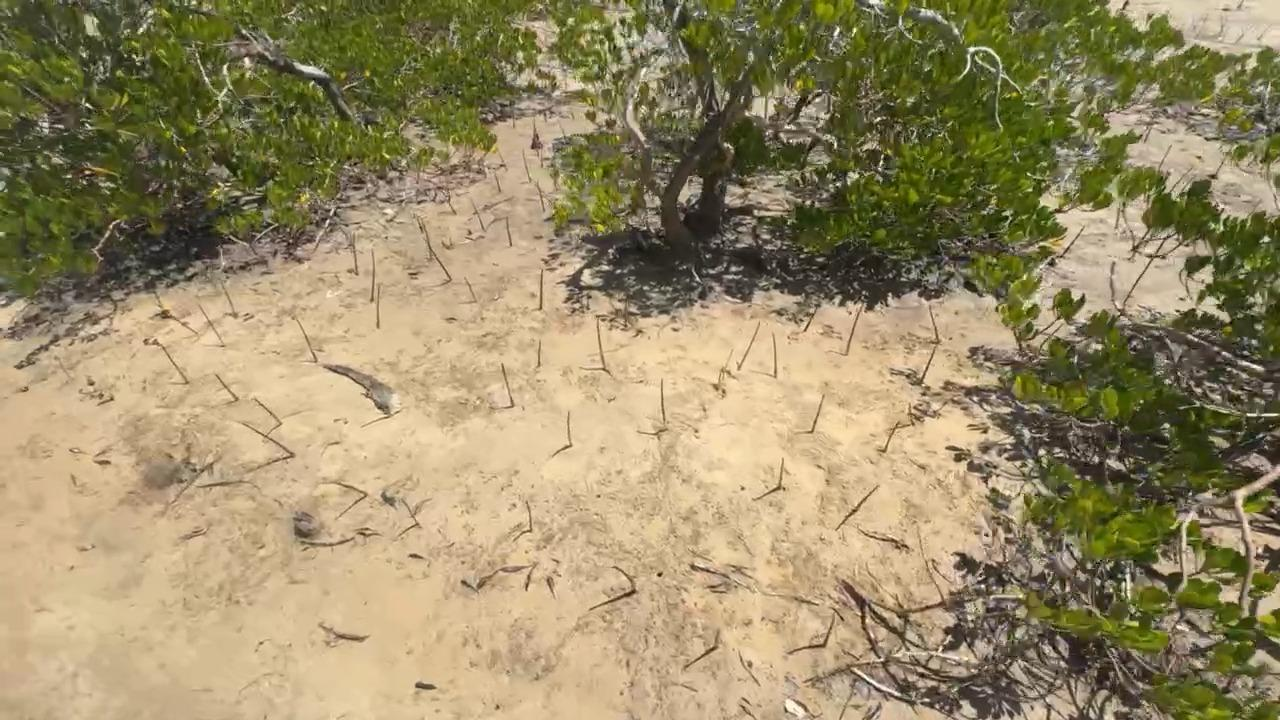Tree: (240, 422, 297, 457), (476, 562, 536, 590), (422, 238, 453, 281), (737, 322, 761, 370), (197, 303, 224, 345), (161, 346, 189, 385), (296, 318, 319, 364), (251, 397, 283, 425), (846, 304, 863, 356), (852, 483, 881, 512), (214, 373, 240, 402), (920, 345, 938, 384), (500, 362, 515, 407), (612, 565, 636, 591), (810, 394, 826, 432), (420, 217, 433, 261), (168, 314, 198, 333), (821, 611, 836, 647), (883, 420, 899, 452), (335, 481, 370, 495), (401, 498, 419, 525), (928, 305, 941, 342), (220, 282, 234, 316), (804, 302, 819, 332), (464, 276, 479, 302), (521, 148, 532, 183), (533, 180, 545, 212), (473, 201, 485, 232), (321, 628, 339, 648), (1070, 224, 1085, 247), (370, 248, 376, 302), (353, 231, 359, 276), (771, 333, 777, 377), (446, 192, 457, 215), (660, 377, 665, 422), (713, 627, 723, 649), (539, 269, 544, 310), (779, 456, 785, 490), (526, 500, 532, 532), (376, 285, 380, 330), (506, 216, 512, 246), (567, 411, 572, 446), (538, 338, 541, 367)
